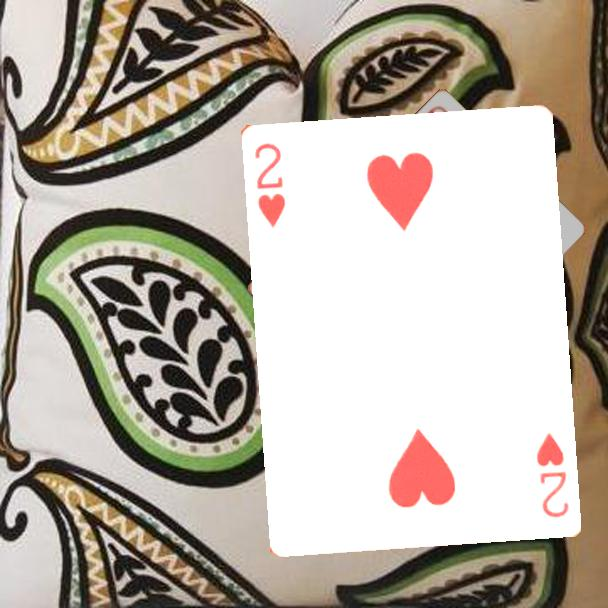h02: (532, 428, 571, 520), (251, 139, 288, 230)
